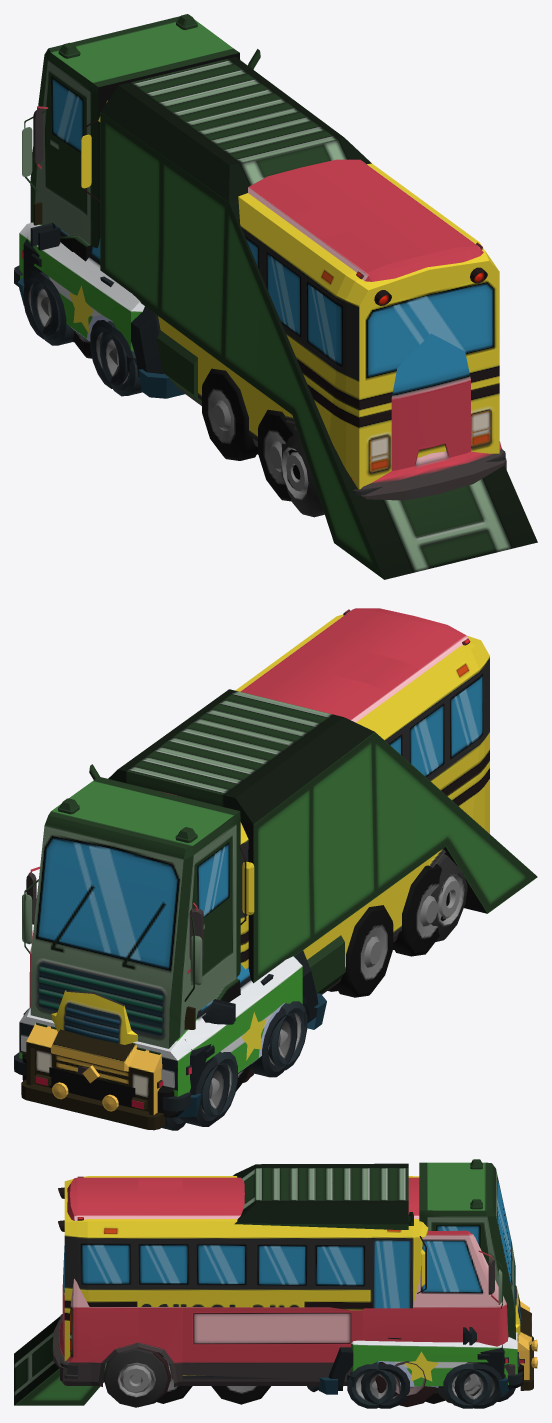
Rendered from Vehicles01.fbx.
3 views of the same model, one above another, from view 1: azimuth 30°, elevation 25°; view 2: azimuth 150°, elevation 25°; view 3: azimuth 270°, elevation 25° (orthographic). The views are drawn at different scales.
Parts seen in each view (by area): view 1: garbage_truck, SchoolBus, CityBus01, Hatchback_Car01, Police_Car; view 2: garbage_truck, SchoolBus, CityBus01, Hatchback_Car01, Car_Van, Police_Car; view 3: CityBus01, SchoolBus, garbage_truck, Hatchback_Car01, Police_Car, Car_Van.
Boxes of the visible parts, x1=… form: garbage_truck: x1=22, y1=14, x2=537, y2=579; SchoolBus: x1=73, y1=100, x2=505, y2=517; CityBus01: x1=33, y1=106, x2=506, y2=500; Hatchback_Car01: x1=14, y1=222, x2=144, y2=388; Police_Car: x1=17, y1=227, x2=184, y2=398; garbage_truck: x1=22, y1=689, x2=537, y2=1117; SchoolBus: x1=51, y1=614, x2=489, y2=1044; CityBus01: x1=22, y1=608, x2=470, y2=1082; Hatchback_Car01: x1=14, y1=956, x2=305, y2=1126; Car_Van: x1=21, y1=1006, x2=253, y2=1130; Police_Car: x1=23, y1=950, x2=326, y2=1120; CityBus01: x1=52, y1=1176, x2=520, y2=1406; SchoolBus: x1=58, y1=1176, x2=521, y2=1407; garbage_truck: x1=14, y1=1159, x2=523, y2=1405; Hatchback_Car01: x1=347, y1=1327, x2=523, y2=1408; Police_Car: x1=307, y1=1327, x2=508, y2=1408; Car_Van: x1=497, y1=1301, x2=537, y2=1401.
Size of the model in its own units: 530 by 721 by 1718.
